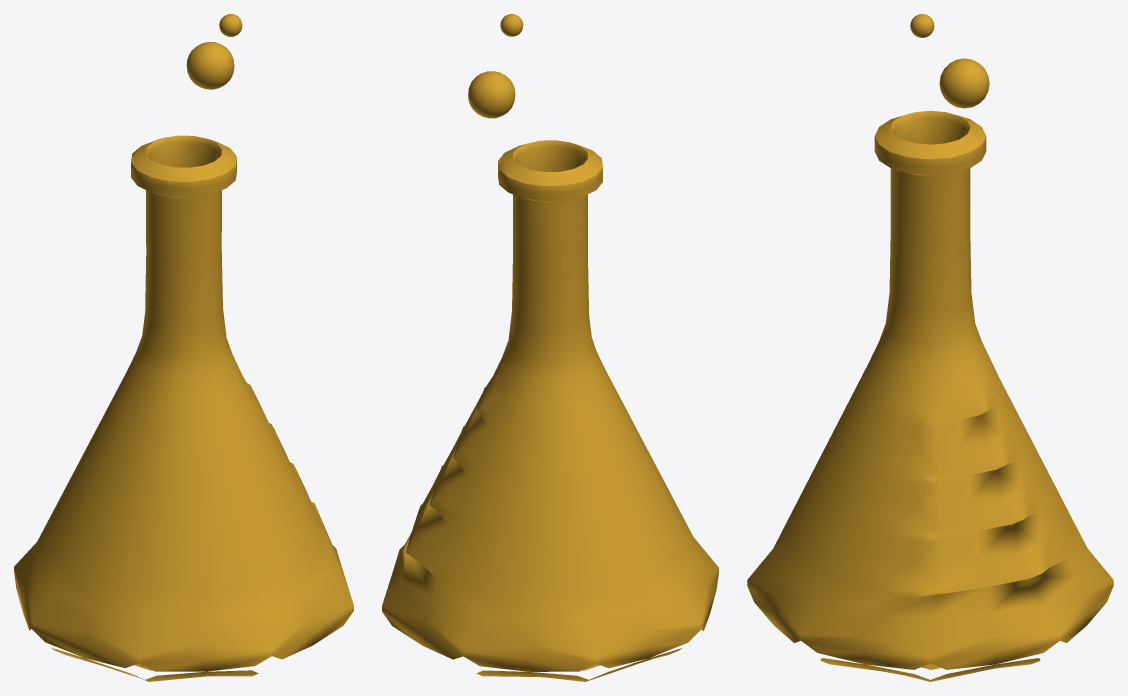
Rendered from chemistry.glb.
3 renders of one model, left to right at view 1: azimuth 30°, elevation 25°; view 2: azimuth 150°, elevation 25°; view 3: azimuth 270°, elevation 25°, orthographic. The views are drawn at different scales.
Parts seen in each view (by area): view 1: Beaker_Icosphere; view 2: Beaker_Icosphere; view 3: Beaker_Icosphere.
Boxes of the visible parts, x1,y1,x2,y2 form: Beaker_Icosphere: (14, 14, 353, 681); Beaker_Icosphere: (382, 14, 718, 681); Beaker_Icosphere: (747, 14, 1113, 681).
Bounding box in the file's own units: 0.5217 × 1 × 0.5217.
